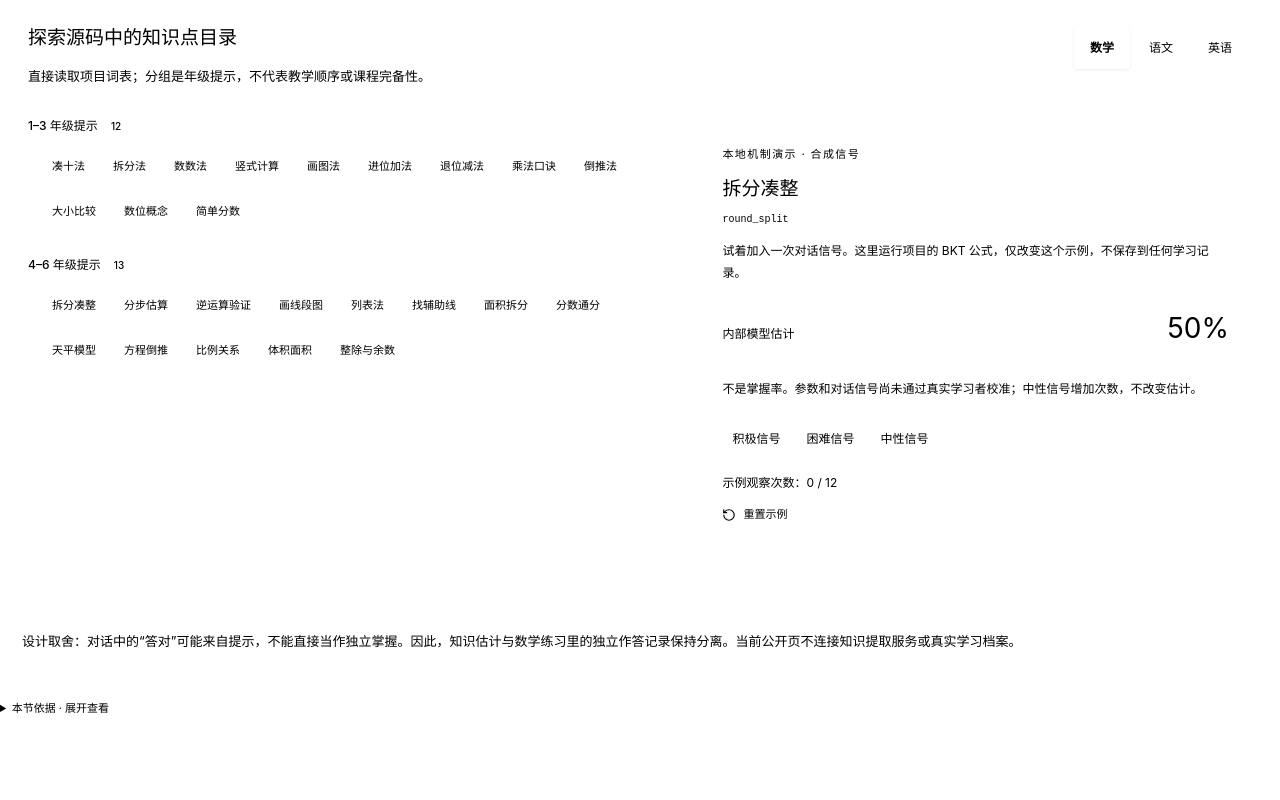
Test: knowledge mechanism illustration › keeps neutral observations neutral, resets when changing concepts and never persists a learner record
(page scrolled)
Click the button "积极信号". click: coordinates (756, 440)
box: 722,418 -> 790,460
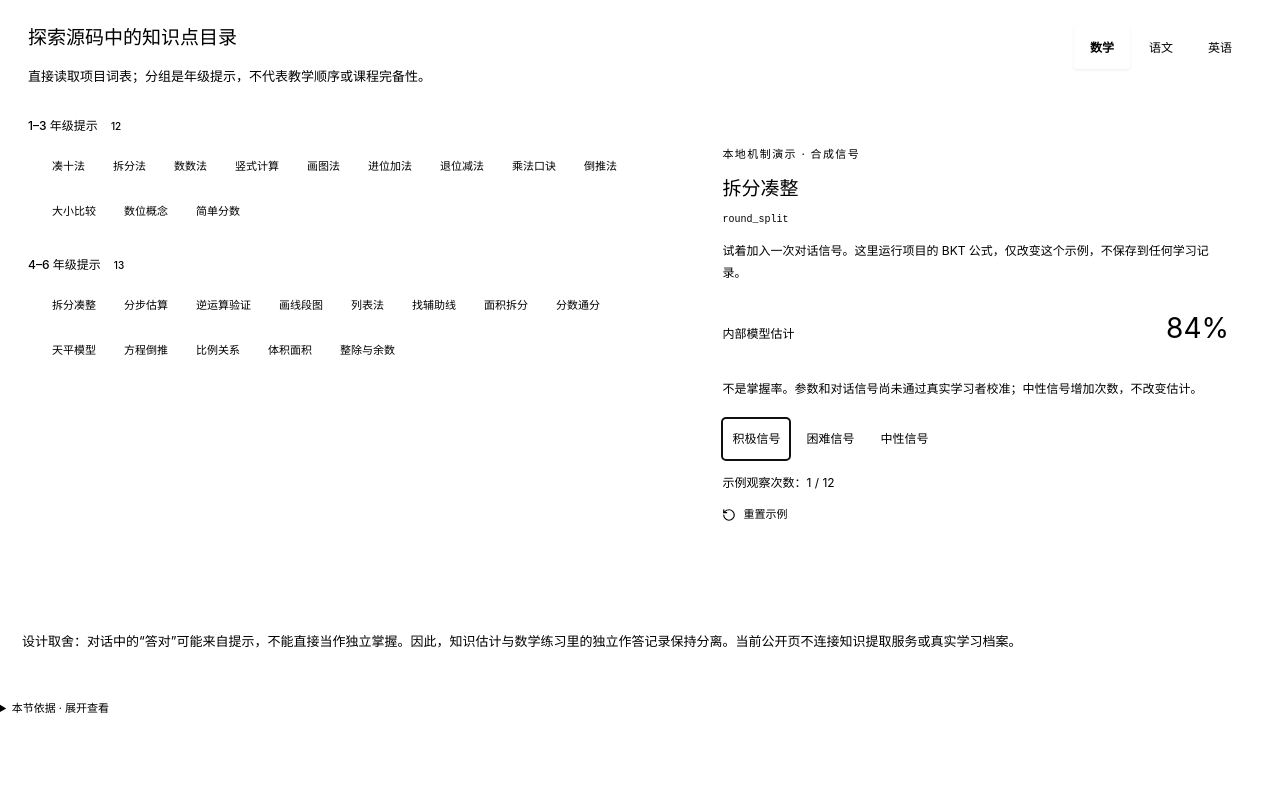
Click the button "中性信号". click: coordinates (904, 440)
box: 870,418 -> 938,460
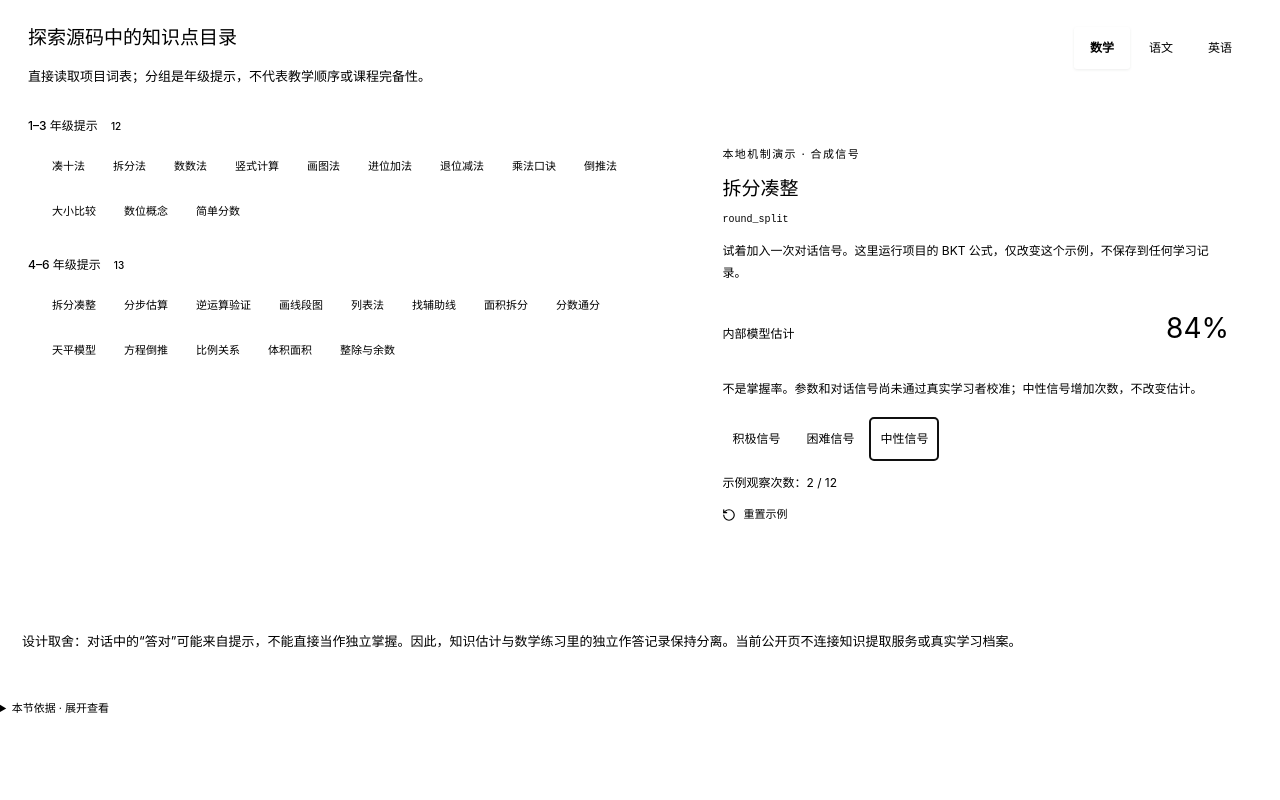
Click the button "困难信号". click: coordinates (830, 440)
box: 796,418 -> 864,460
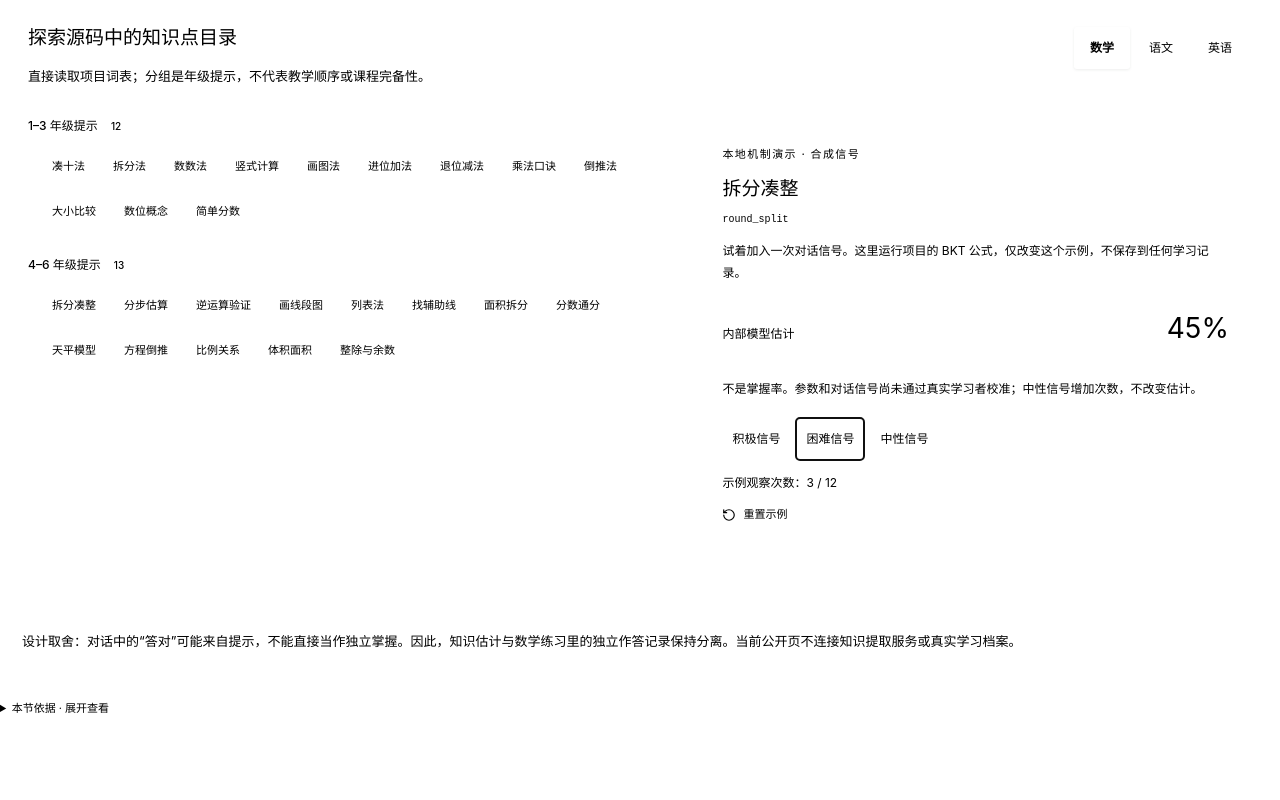
Click the button "分数通分". click: coordinates (578, 305)
box: 545,286 -> 611,324
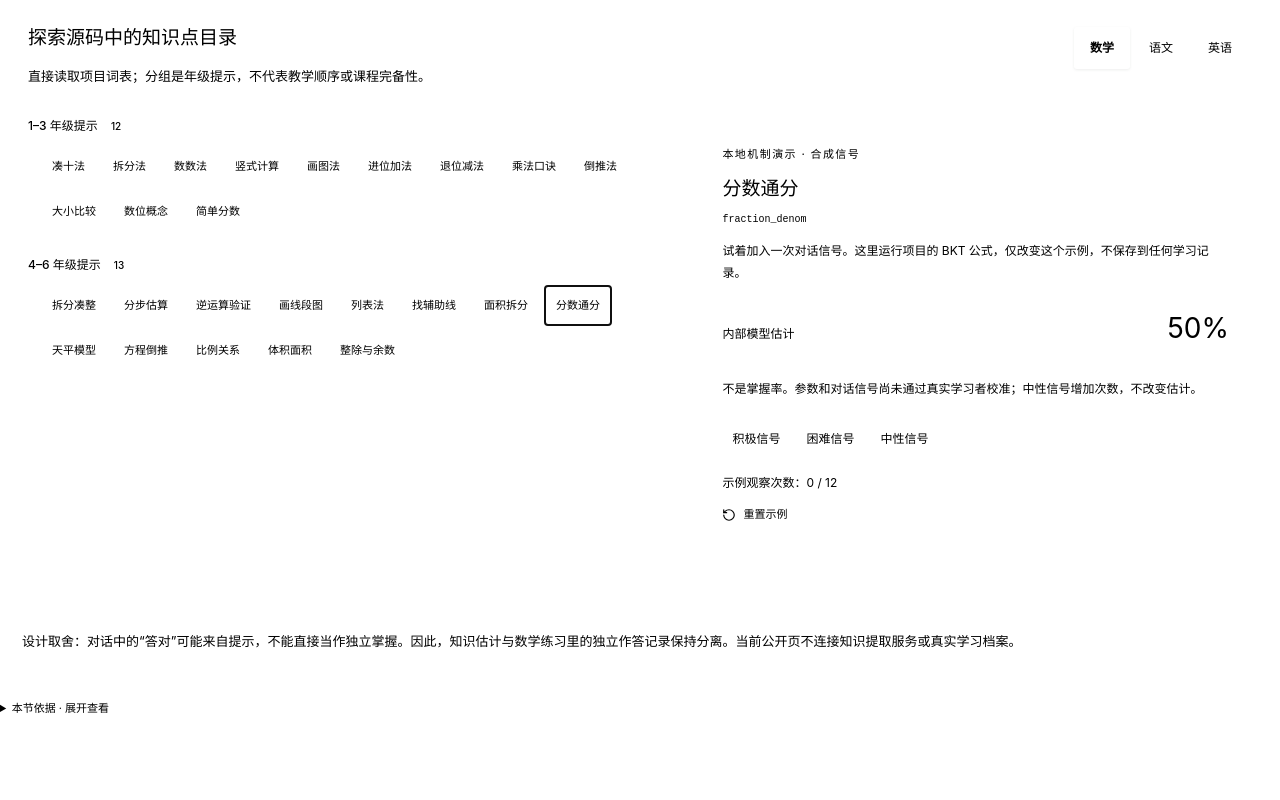
Now the text "示例观察次数：0 / 12" is shown, box 722,476 -> 837,490
Click the button "语文". click: coordinates (1161, 48)
box: 1133,28 -> 1189,70
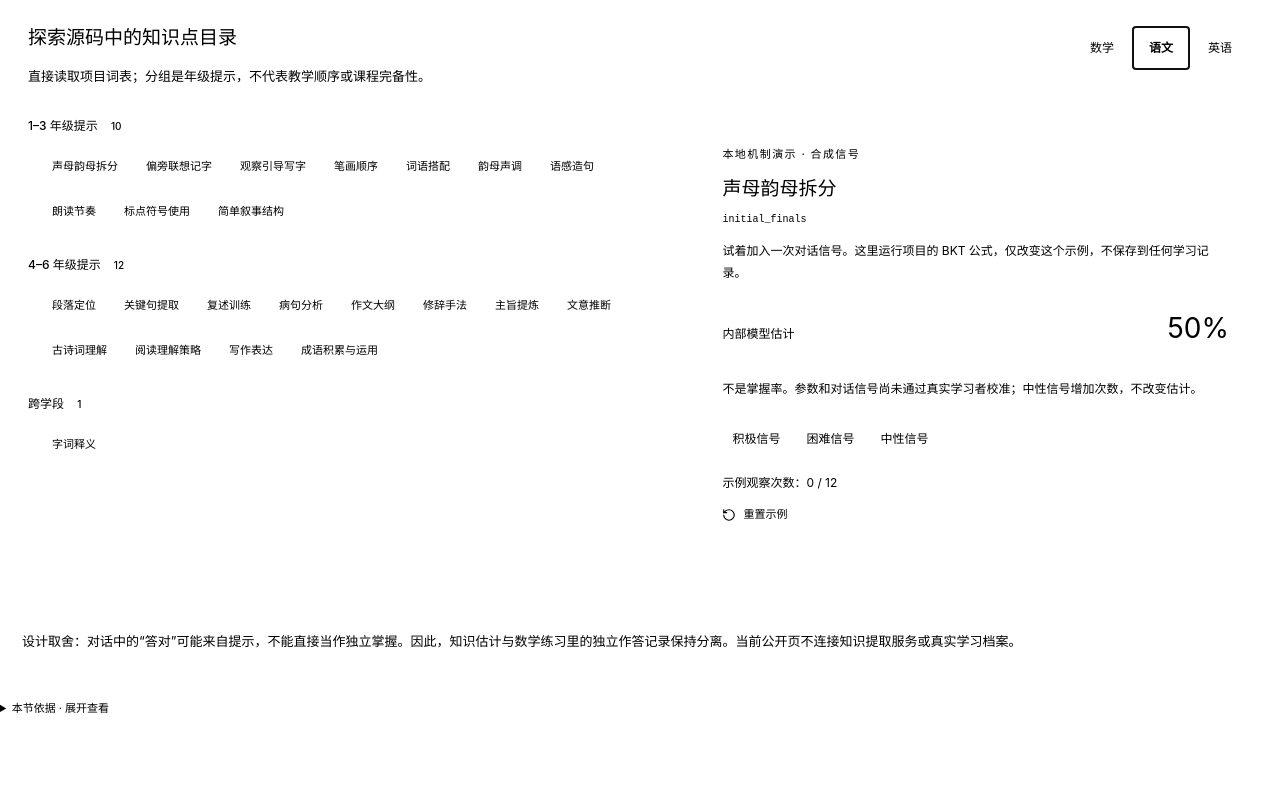
Now the button "分数通分" is gone
